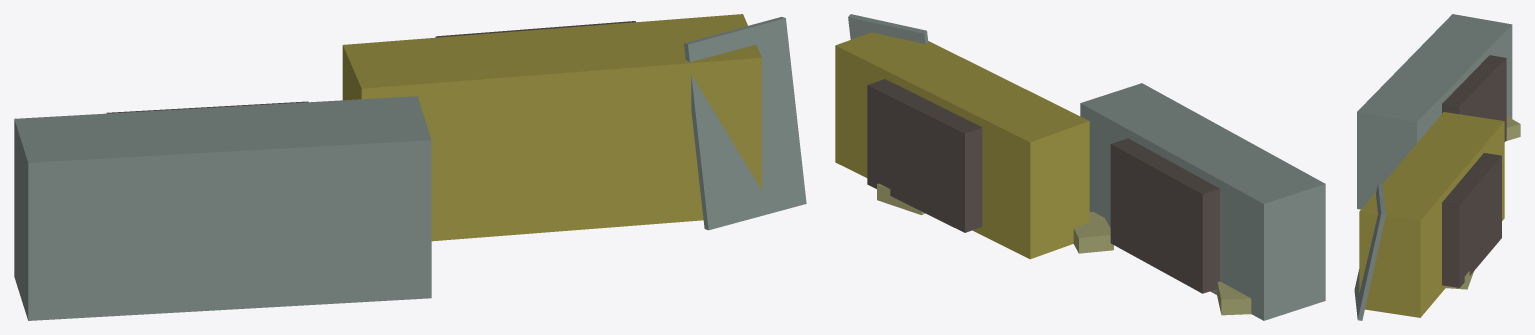
Rendered from SM_BarricadaCivil_v0_Coches_e2_MuyDanado_LOD0.fbx.
3 views of the same model, side by side, from view 1: azimuth 30°, elevation 25°; view 2: azimuth 150°, elevation 25°; view 3: azimuth 270°, elevation 25° (orthographic). The views are drawn at different scales.
Visible parts, largest first — view 1: SM_barricada_civil_v2_LOD0; view 2: SM_barricada_civil_v2_LOD0; view 3: SM_barricada_civil_v2_LOD0.
Part boxes in pixels (left/top/right/bottom): SM_barricada_civil_v2_LOD0: left=14, top=14, right=806, bottom=320; SM_barricada_civil_v2_LOD0: left=835, top=14, right=1325, bottom=320; SM_barricada_civil_v2_LOD0: left=1354, top=14, right=1520, bottom=320.
Size of the model in its own units: 8.36 by 1.99 by 2.79.
